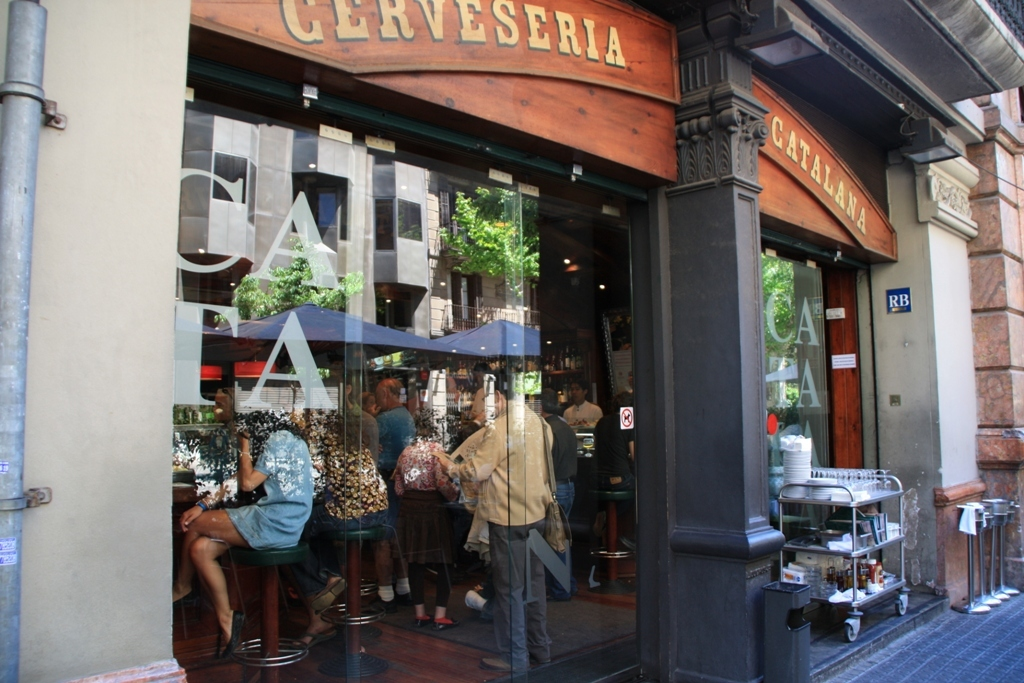Footwear: (212, 607, 247, 666), (308, 573, 346, 615), (301, 625, 340, 653), (164, 587, 200, 610), (480, 656, 522, 674), (362, 593, 393, 615), (438, 614, 462, 633), (393, 591, 412, 613), (416, 610, 431, 625)
